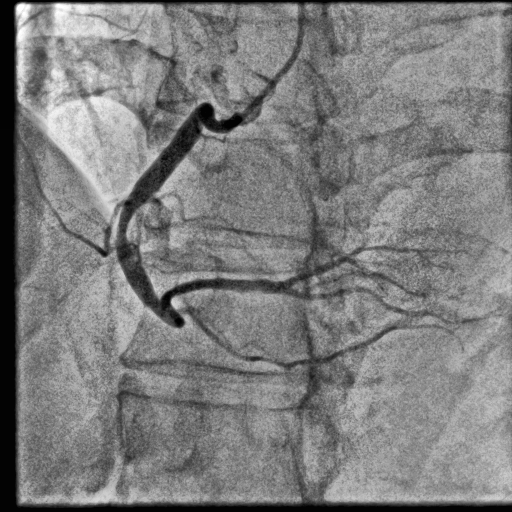pborca: (283, 246, 451, 286)
pda: (283, 287, 501, 325)
rca: (115, 102, 290, 329)
